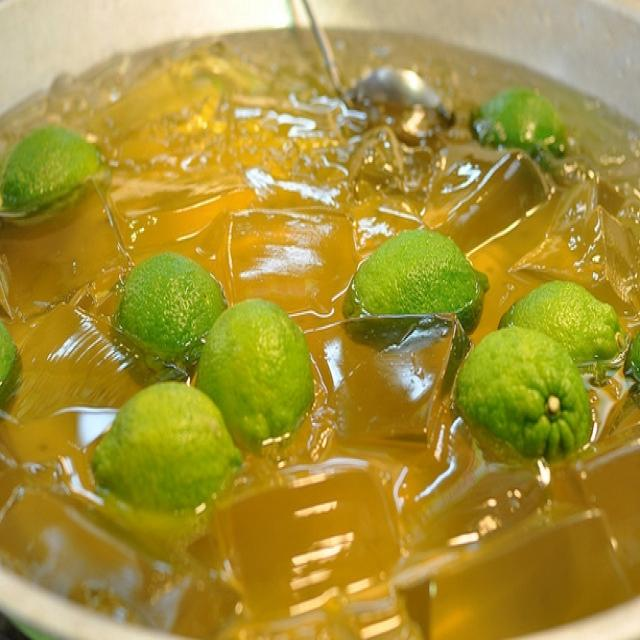蛋糕甜品: (16, 23, 623, 626)
